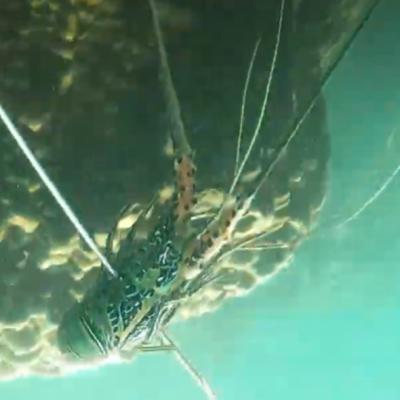lobster: (58, 172, 228, 372)
